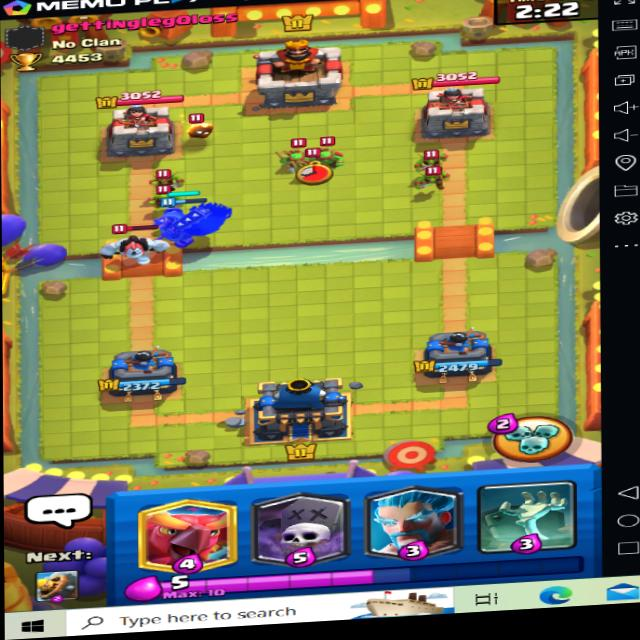fire-spirit: (184, 105, 217, 143)
goblin: (407, 164, 451, 199), (407, 139, 451, 170), (152, 159, 186, 188), (146, 187, 180, 207)
ice-golem: (106, 223, 182, 271)
spear-goblin: (281, 138, 316, 173), (308, 134, 345, 166)
